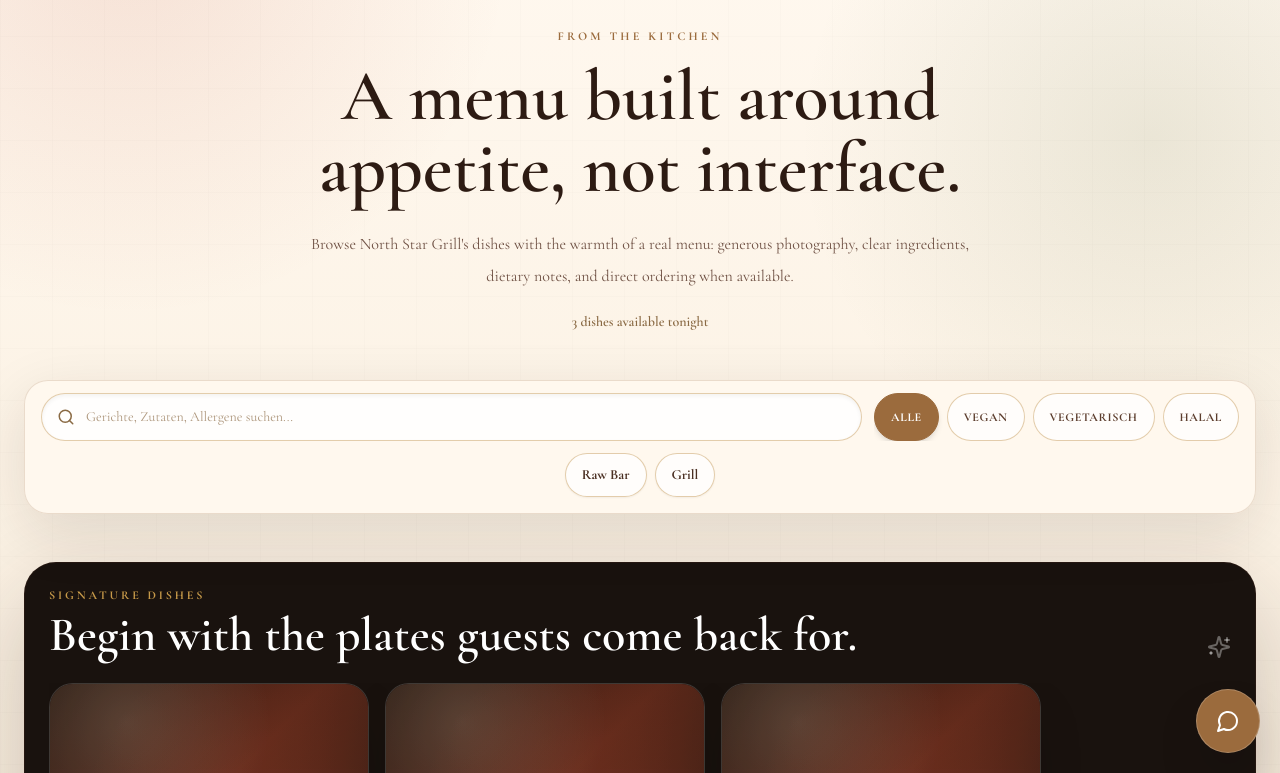
Test: restaurant page › uses cuisine-neutral menu copy for non-Italian restaurants without changing search or cart
(page scrolled)
Expected: the text "From the kitchen" is shown, [558,29,722,43]
Expected: the heading "Begin with the plates guests come back for." is shown, [49,611,857,659]
Type "ribeye" into the field with placeholder "Gerichte, Zutaten, Allergene suchen...". click: (452, 417)
box: [41,393,862,441]
(page scrolled)
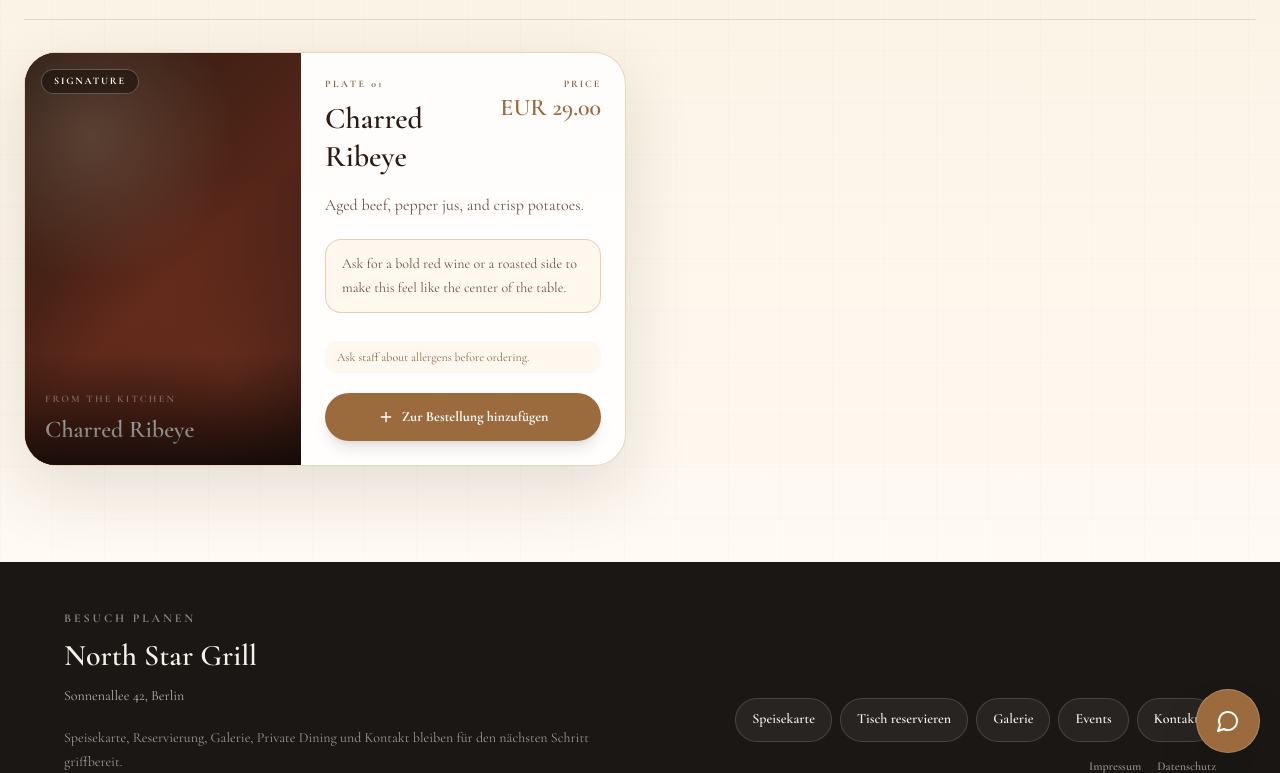
Expected: the element "Charred Ribeye" is shown, [24,52,626,466]
Click the button "Zur Bestellung hinzufügen". click: (463, 417)
box: [325,393,601,441]
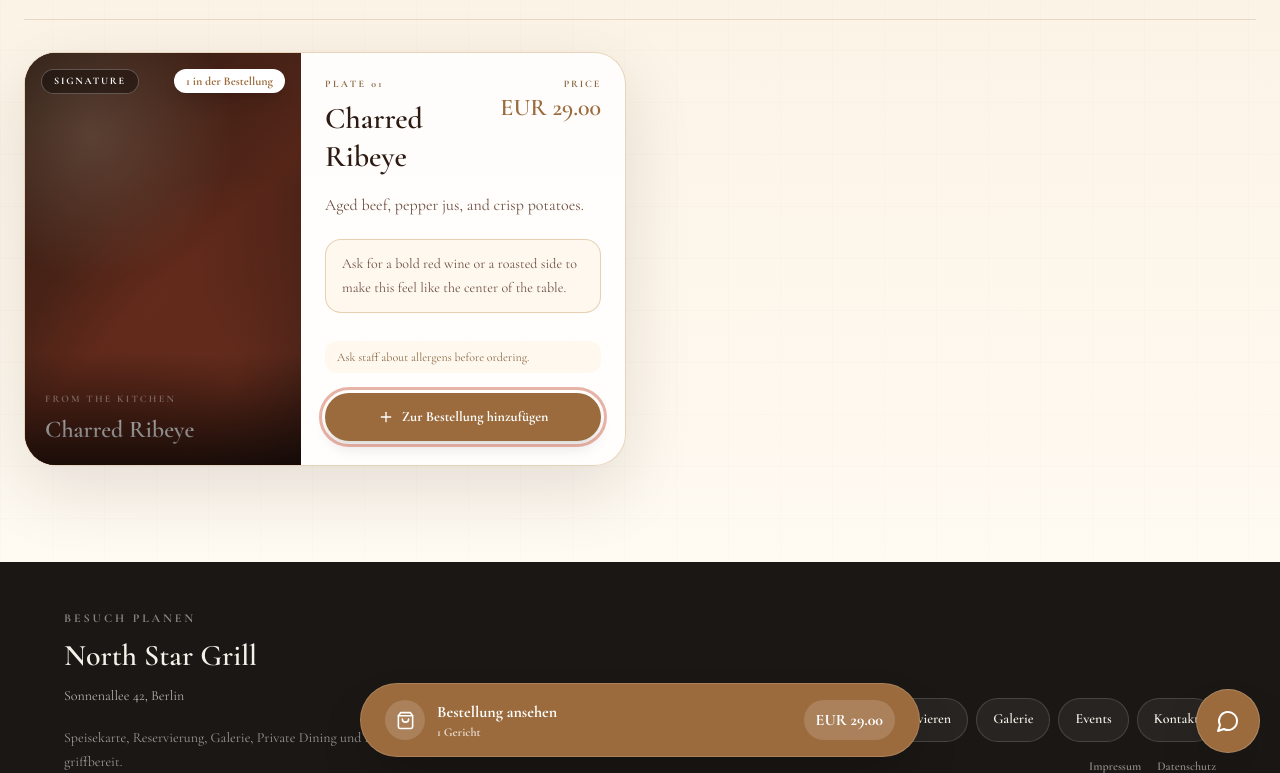
Expected: the button "Bestellung ansehen 1 Gericht EUR 29.00" is shown, [360,683,920,757]
Expected: the text "1 Gericht" is shown, [437,725,480,739]
